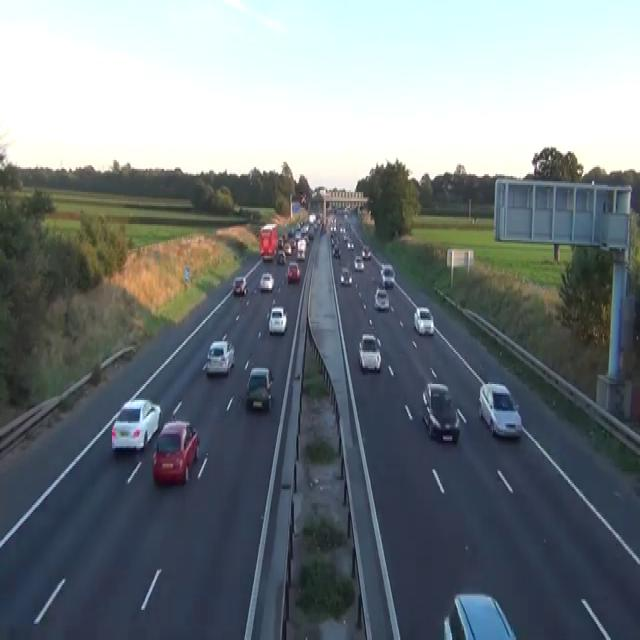Car: (443, 592, 517, 638), (152, 420, 199, 486), (111, 398, 161, 452), (478, 382, 522, 438), (422, 382, 460, 443), (245, 366, 273, 411), (205, 338, 235, 375), (358, 332, 381, 372), (413, 306, 434, 336), (268, 306, 287, 334), (379, 263, 395, 286), (373, 288, 389, 309), (232, 276, 248, 295), (259, 272, 274, 292), (287, 261, 300, 283), (340, 267, 352, 286), (296, 238, 306, 260), (361, 243, 371, 260), (354, 254, 364, 270), (183, 265, 190, 284), (262, 249, 273, 261), (277, 249, 285, 263), (283, 242, 292, 254), (330, 235, 339, 247), (332, 245, 340, 258), (277, 235, 284, 249), (308, 212, 316, 224), (330, 215, 336, 231), (299, 192, 306, 204), (319, 222, 325, 235), (339, 224, 346, 235), (347, 240, 354, 249), (330, 233, 335, 243)
Truck: (259, 222, 278, 262)
